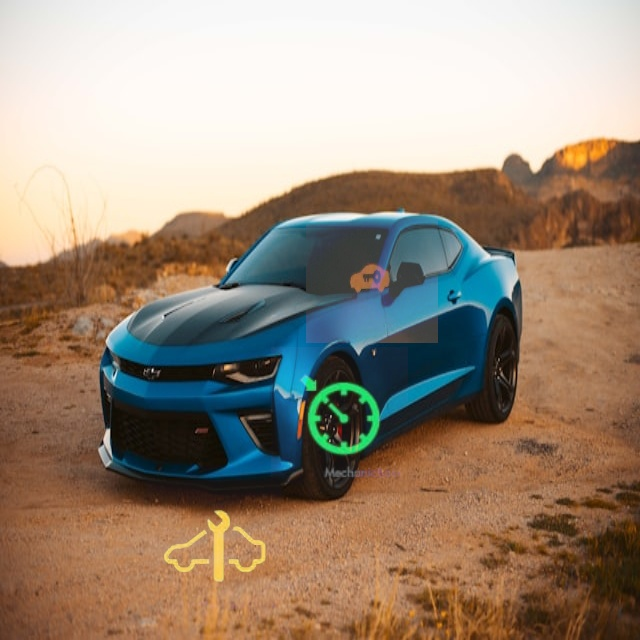symbol: (271, 347, 408, 484), (146, 480, 282, 616), (306, 211, 438, 343)
